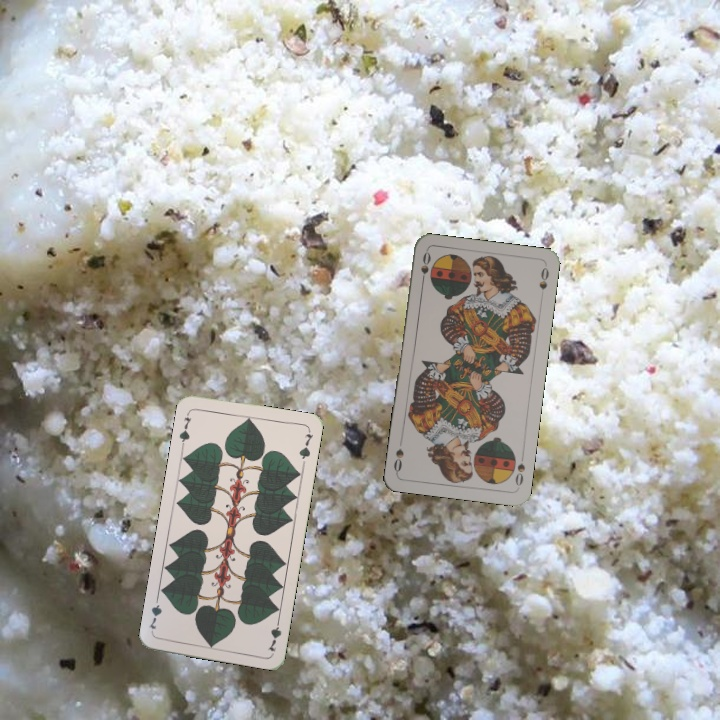G7: (264, 614, 284, 654), (175, 408, 194, 448)
SO: (417, 248, 433, 288), (511, 459, 528, 489)
